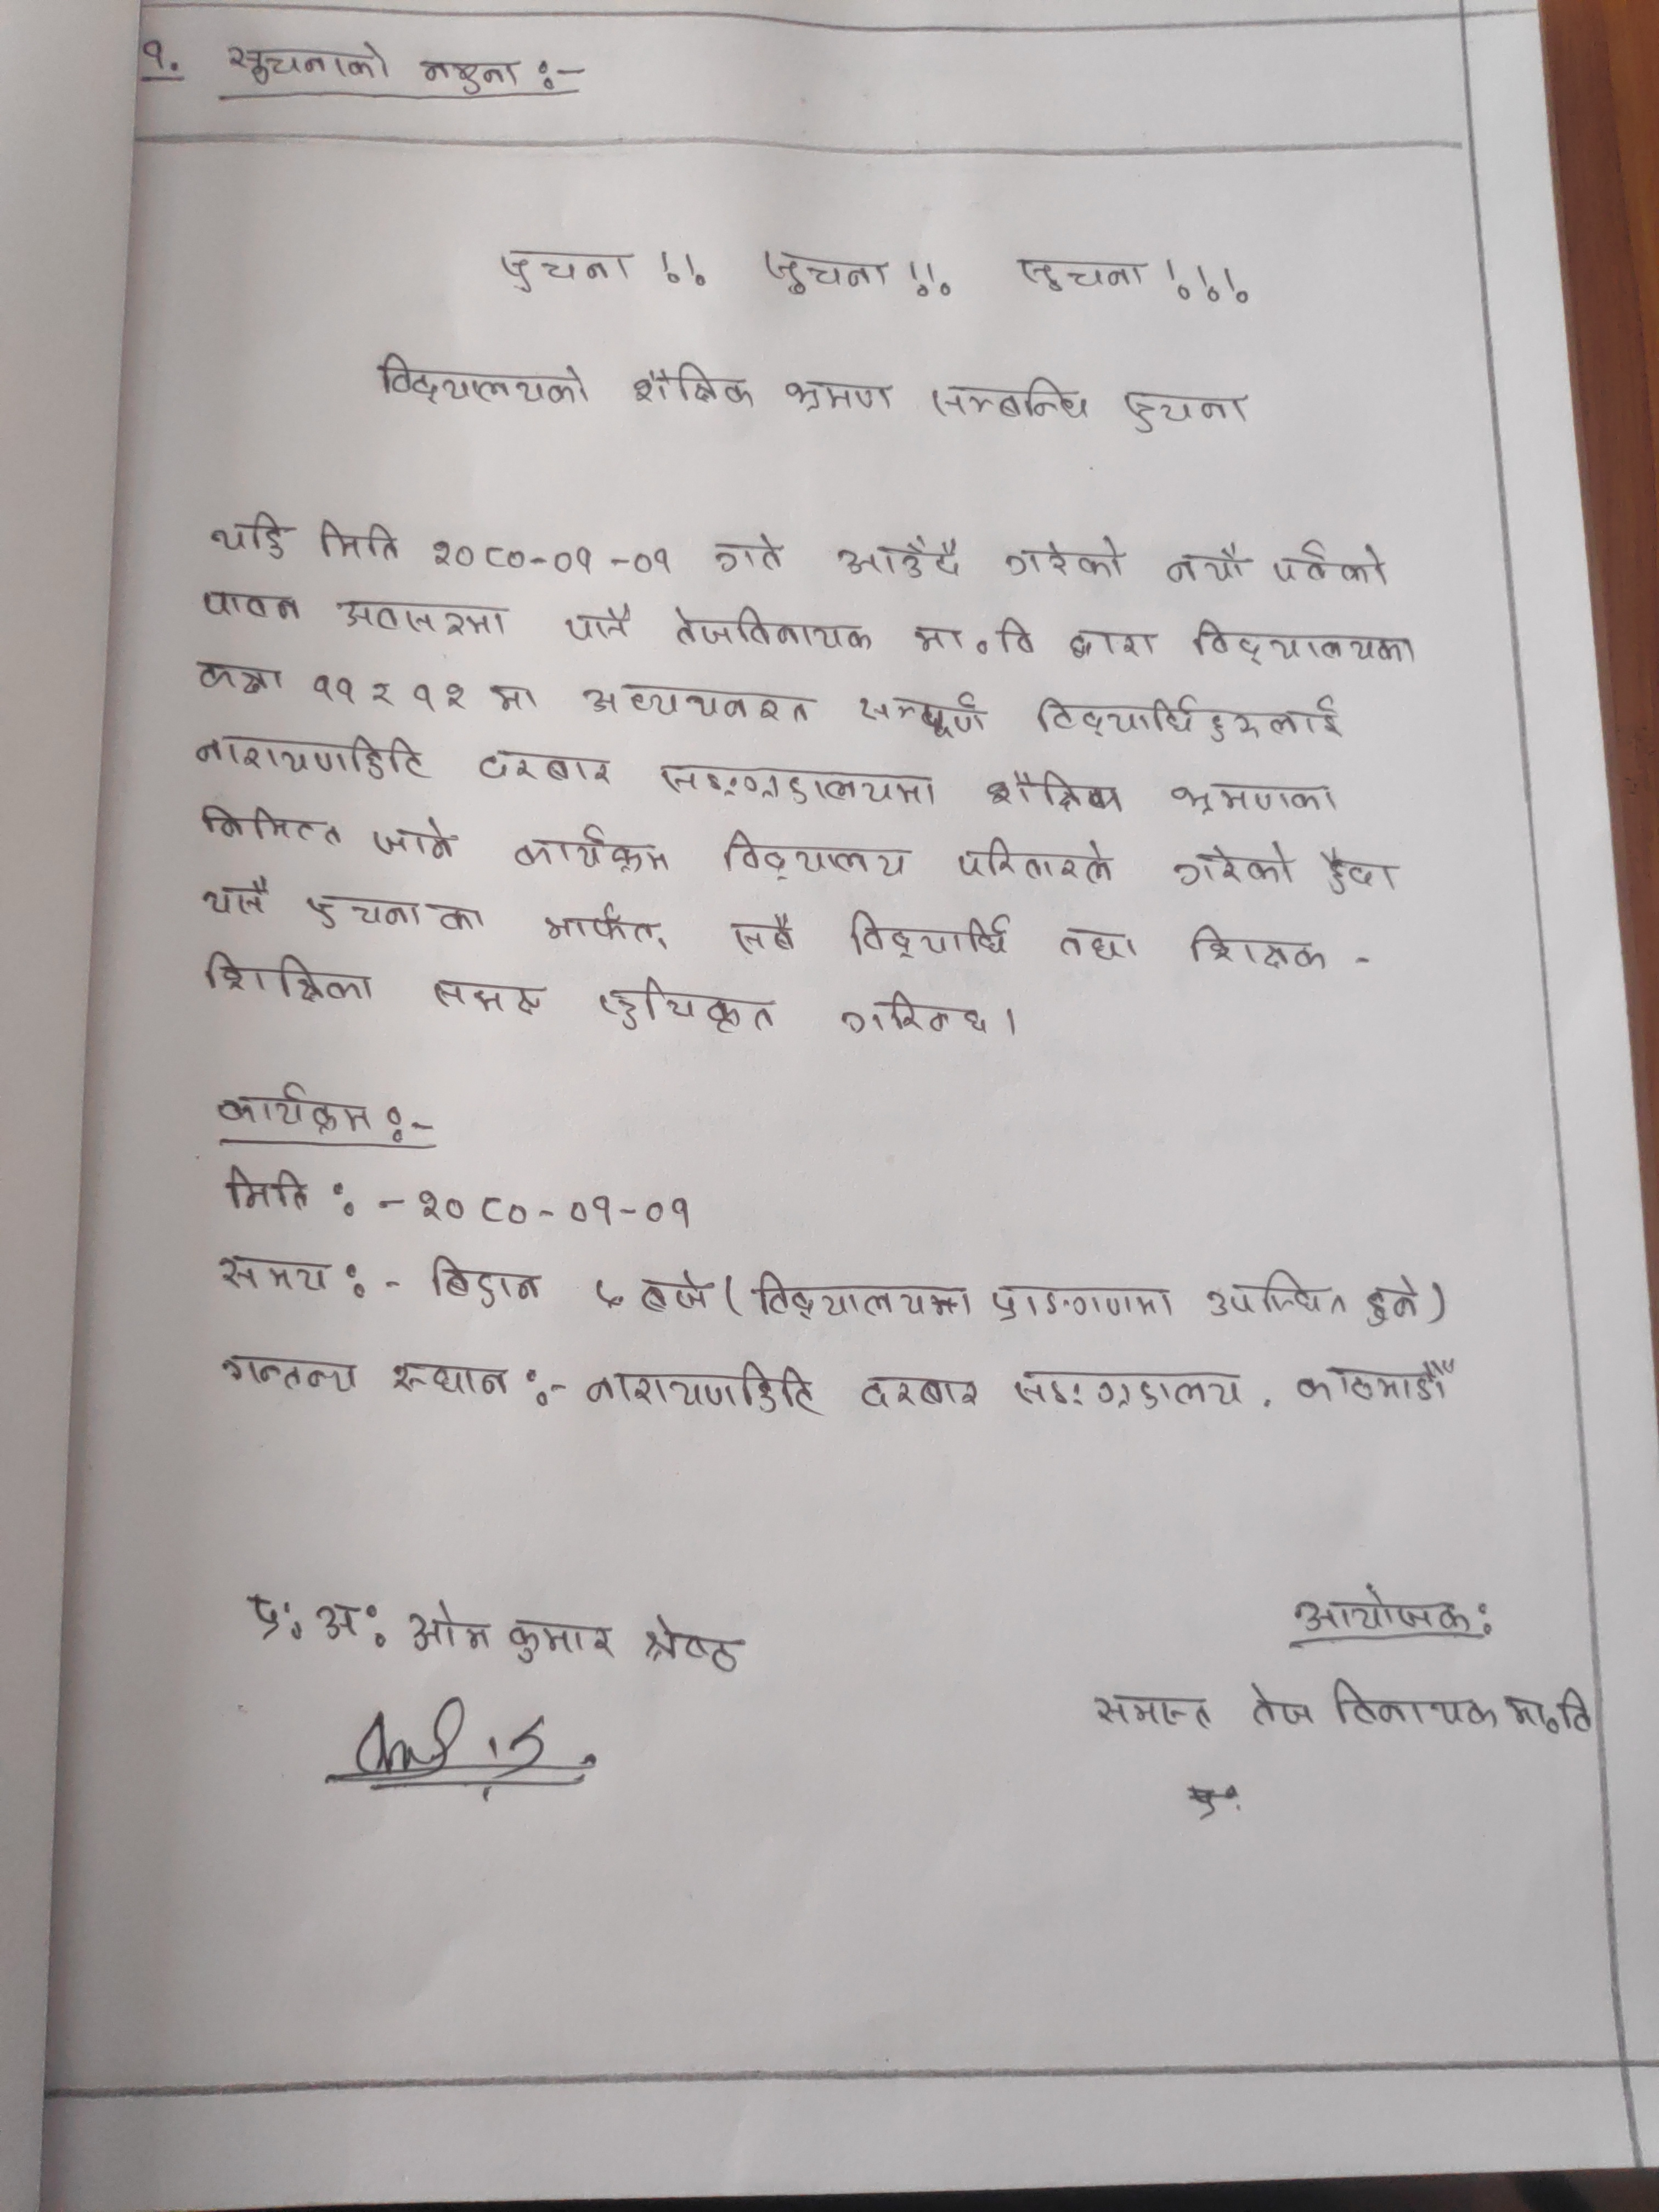text: (1026, 691, 1344, 740), (652, 759, 939, 810), (411, 1184, 695, 1233), (584, 1364, 823, 1418), (1190, 615, 1420, 671), (368, 352, 589, 408), (746, 1270, 974, 1324), (190, 730, 430, 780), (664, 603, 878, 657), (579, 679, 816, 728), (1007, 1367, 1251, 1413), (592, 975, 779, 1035), (429, 535, 671, 580), (195, 949, 375, 1008), (716, 827, 910, 881), (1291, 1587, 1474, 1642), (218, 33, 394, 91), (1331, 1670, 1502, 1728), (842, 904, 1016, 960), (303, 888, 484, 941), (331, 590, 516, 641), (925, 373, 1091, 428), (213, 1083, 373, 1139), (247, 1590, 385, 1655), (992, 1278, 1180, 1325), (955, 836, 1117, 888), (1166, 772, 1340, 819), (1204, 1268, 1351, 1324), (512, 824, 667, 876), (849, 683, 988, 738), (192, 799, 343, 850), (986, 766, 1127, 820), (756, 244, 890, 300), (842, 989, 986, 1040), (1183, 923, 1324, 974), (493, 242, 638, 291), (216, 1350, 361, 1399), (830, 533, 969, 583), (1119, 385, 1253, 435), (1293, 1359, 1455, 1400), (1011, 251, 1154, 298), (638, 1615, 749, 1674), (629, 361, 760, 411), (425, 1252, 542, 1308), (1272, 540, 1394, 592), (505, 1611, 617, 1667), (1169, 841, 1295, 890), (1004, 531, 1126, 580), (538, 899, 669, 944), (908, 618, 1039, 662), (214, 1251, 335, 1296), (404, 1599, 493, 1660), (429, 975, 551, 1019), (1314, 841, 1403, 900), (385, 1359, 516, 1399), (856, 1372, 983, 1413), (411, 54, 528, 98), (477, 749, 615, 786), (220, 1162, 315, 1214), (188, 650, 291, 697), (782, 374, 901, 415), (1504, 1688, 1598, 1737), (207, 510, 295, 563), (1093, 1693, 1215, 1730), (1157, 543, 1255, 589), (199, 580, 301, 622), (368, 817, 460, 860), (310, 519, 406, 559), (711, 528, 788, 577), (1066, 625, 1164, 664), (640, 1268, 718, 1315), (1051, 923, 1141, 963), (1244, 1684, 1317, 1733), (552, 604, 638, 644), (1363, 1277, 1427, 1329), (725, 913, 805, 954), (200, 876, 272, 921), (410, 681, 469, 714), (587, 1271, 626, 1318), (486, 681, 537, 716), (314, 674, 359, 709), (371, 678, 403, 712)
